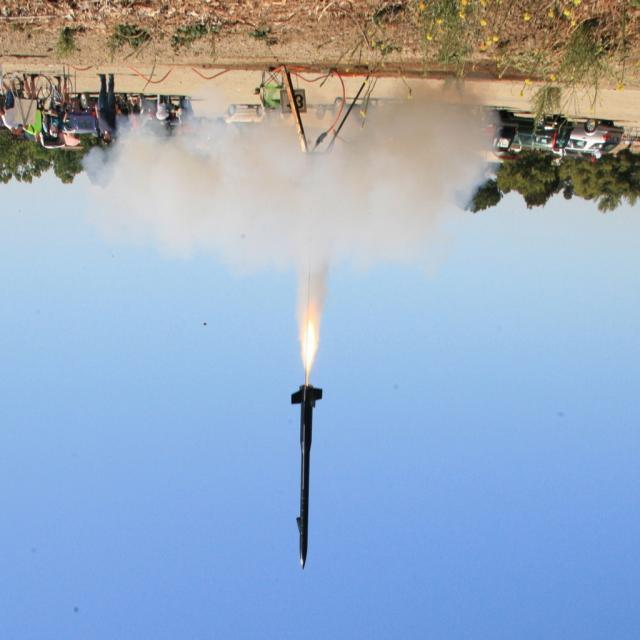Missile: (286, 382, 324, 572)
